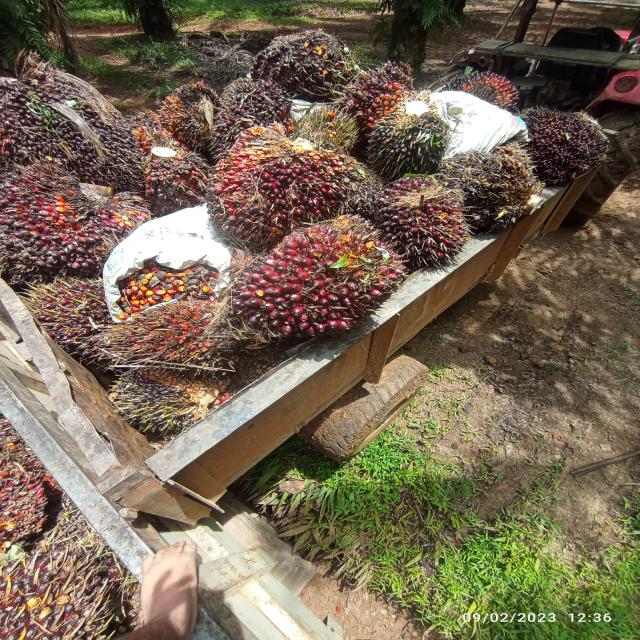fraksi 00: (0, 66, 119, 173), (93, 367, 238, 436), (249, 23, 369, 97), (209, 72, 307, 141), (443, 149, 528, 227), (364, 114, 451, 179), (89, 112, 160, 178)
fraksi 1: (7, 154, 173, 275), (516, 104, 603, 180)
fraksi 3: (221, 206, 428, 338), (195, 130, 372, 234), (14, 279, 134, 362), (393, 180, 484, 264)
fraksi 4: (110, 303, 224, 383), (358, 65, 406, 118)
